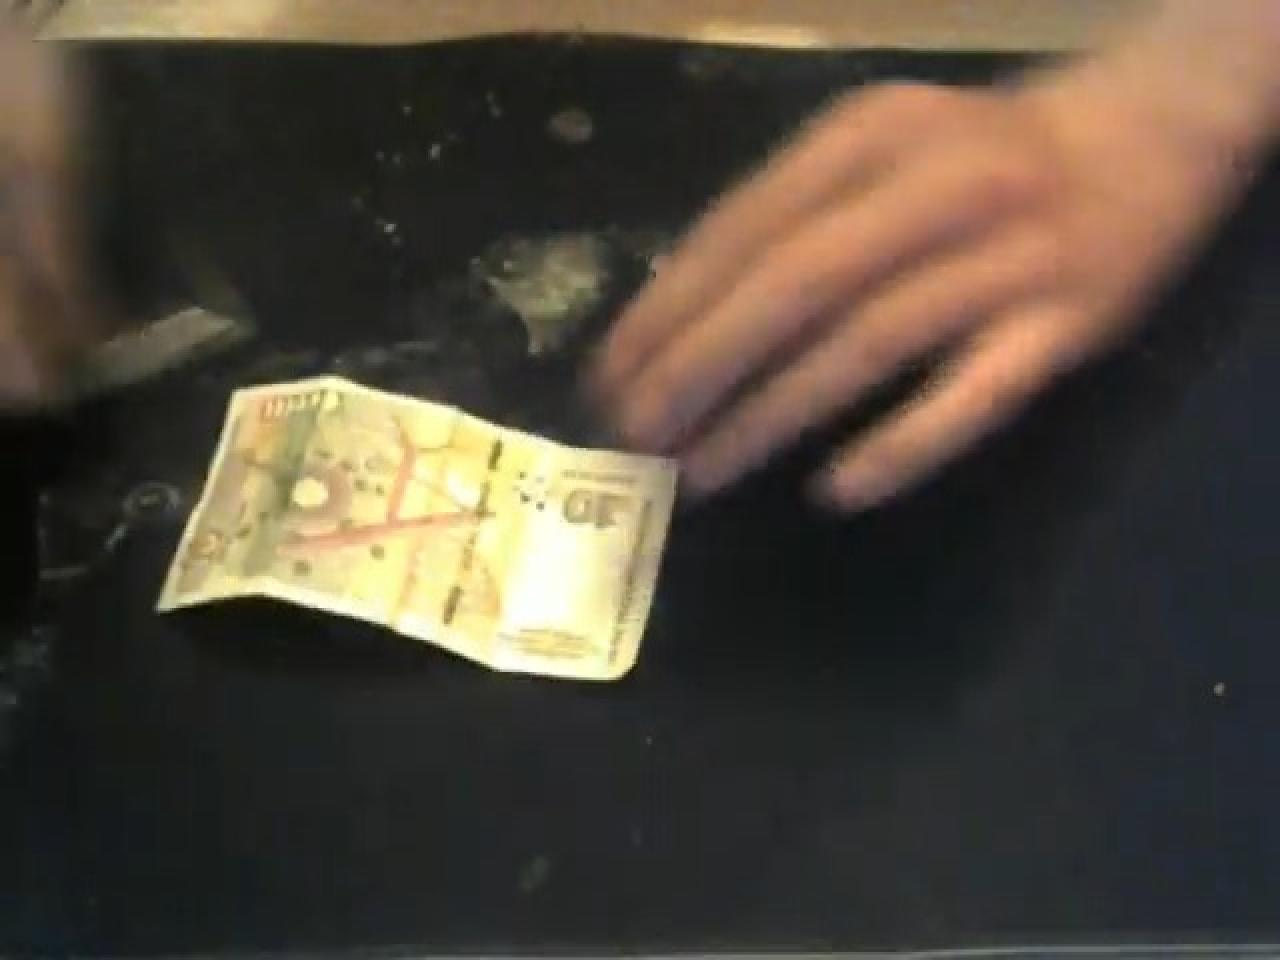10leva: (154, 368, 680, 686)
